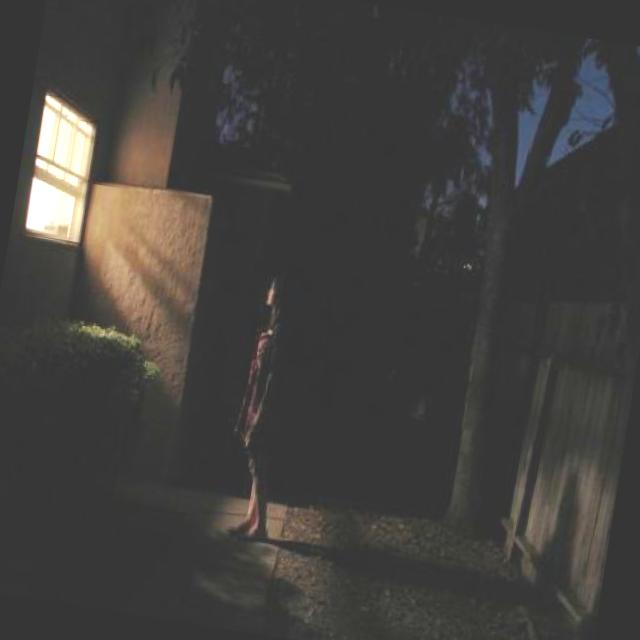Person: (210, 260, 303, 531)
